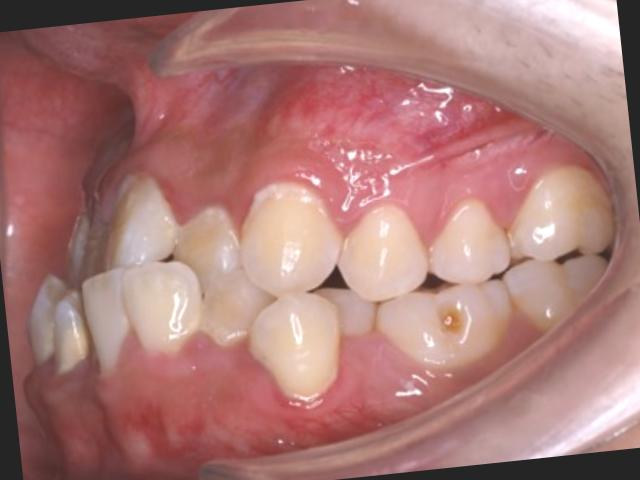canine class II 1/2: (226, 164, 378, 430)
molar class III full class: (358, 148, 640, 385)
